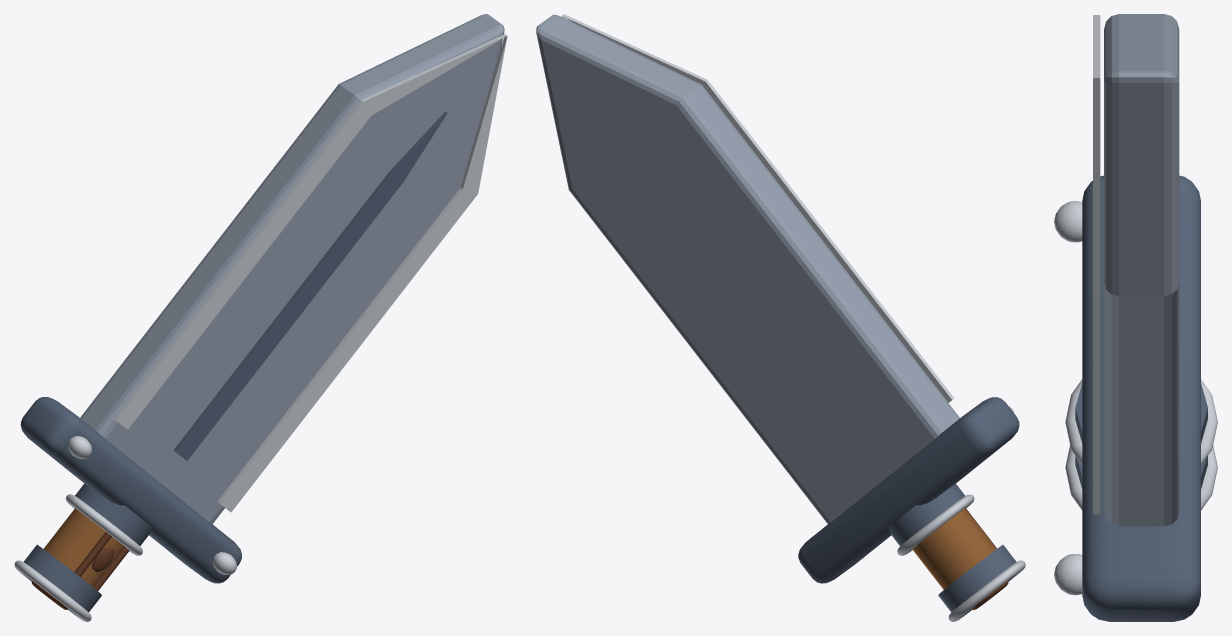
The model's file is ironsword.glb.
3 views of the same model, side by side, from view 1: azimuth 30°, elevation 25°; view 2: azimuth 150°, elevation 25°; view 3: azimuth 270°, elevation 25° (orthographic). The views are drawn at different scales.
Parts seen in each view (by area): view 1: _profile, _box, _cyl; view 2: _profile, _box, _cyl; view 3: _profile, _box.
Part boxes in pixels (x1,y1,x2,y2): _profile: (80, 14, 507, 523); _box: (14, 397, 241, 621); _cyl: (31, 508, 129, 609); _profile: (536, 14, 959, 524); _box: (798, 397, 1025, 621); _cyl: (912, 508, 1008, 609); _profile: (1093, 14, 1179, 526); _box: (1054, 175, 1217, 621).
Size of the model in its own units: 0.8687 by 0.8687 by 0.1638.
